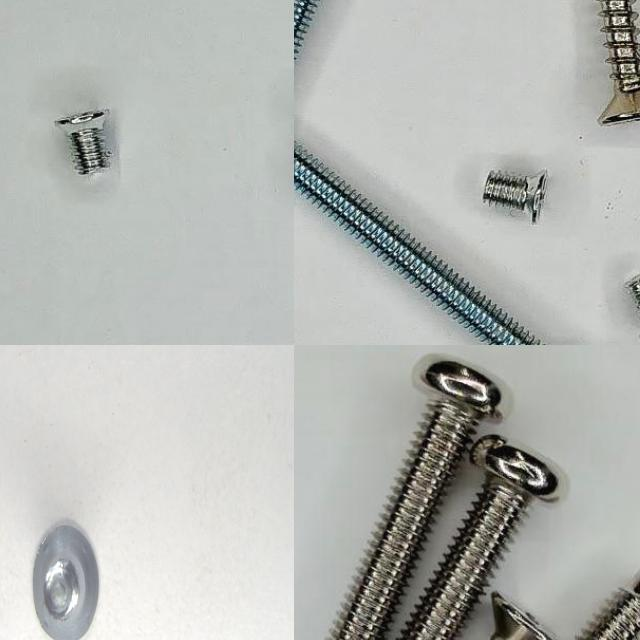Screw: (294, 143, 544, 345), (331, 361, 502, 640), (400, 436, 562, 640), (33, 524, 99, 640), (598, 0, 640, 125), (54, 110, 109, 175), (484, 171, 547, 223), (491, 592, 559, 640)
